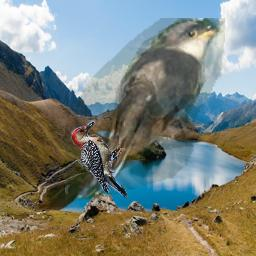Cuckoo: (65, 18, 225, 205)
Woodpecker: (71, 121, 128, 198)
